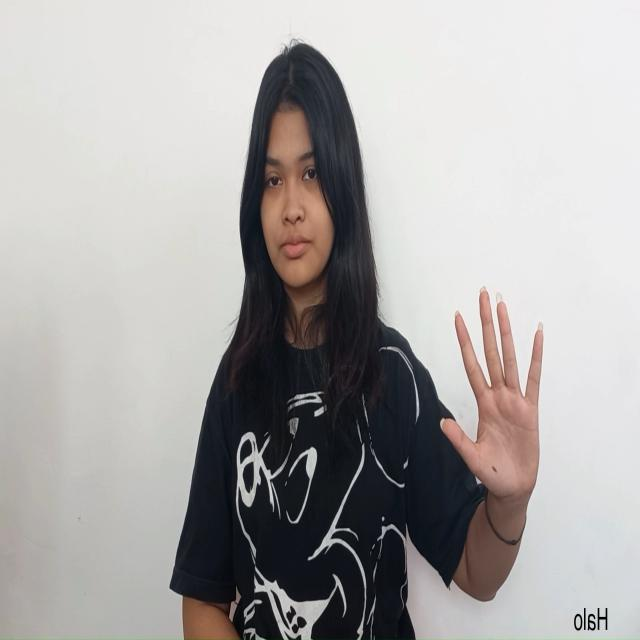Halo -BISINDO-: (439, 286, 544, 510)
